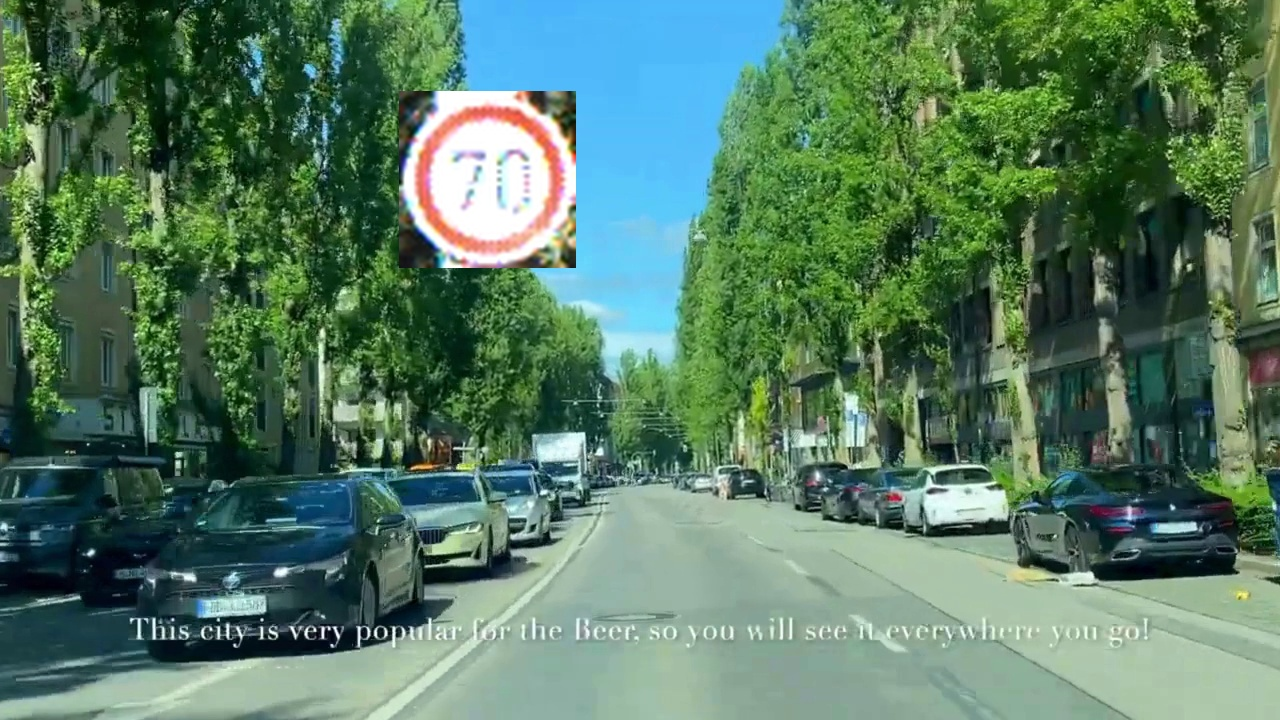Speed 70: (399, 91, 576, 268)
